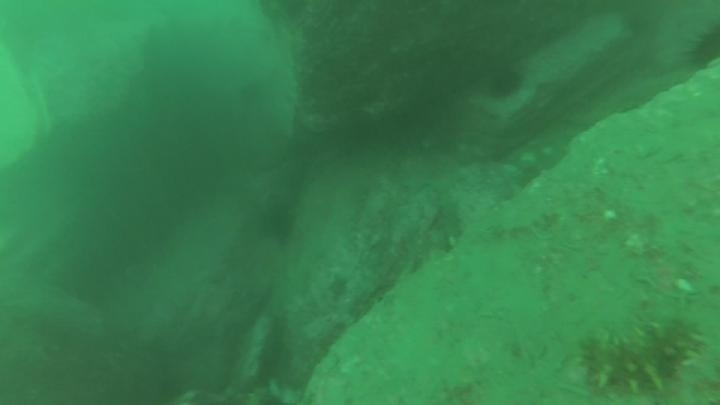echinus: (684, 21, 720, 73), (483, 63, 526, 102)
holothurian: (574, 315, 705, 395)
